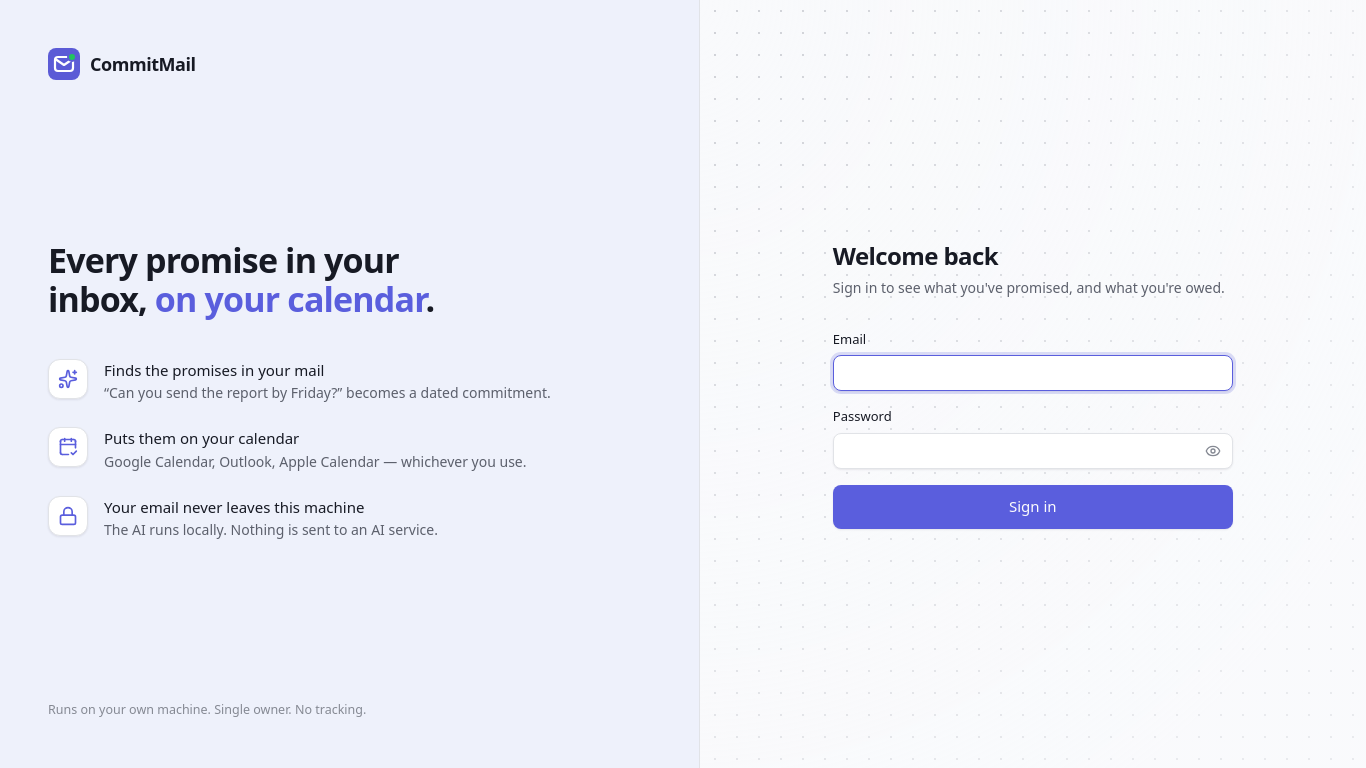
sign in › checks the form before sending anything
What coordinates should you click on to do the following:
click the button "Sign in"
I would click on:
 (1033, 506)
Its box is [833,484,1233,528].
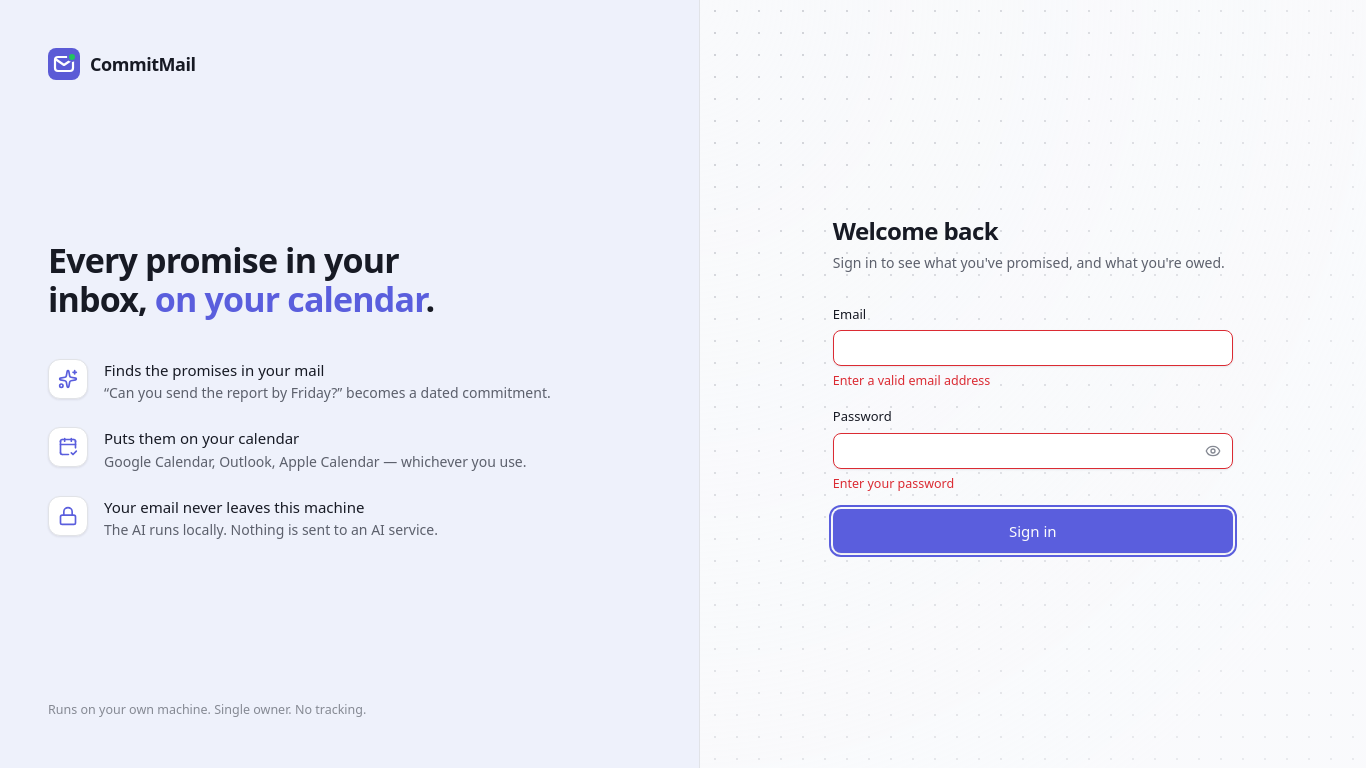
Check: the text "Enter a valid email address" is shown, box [833,372,990,389]
Check: the text "Enter your password" is shown, box [833,474,954,492]
